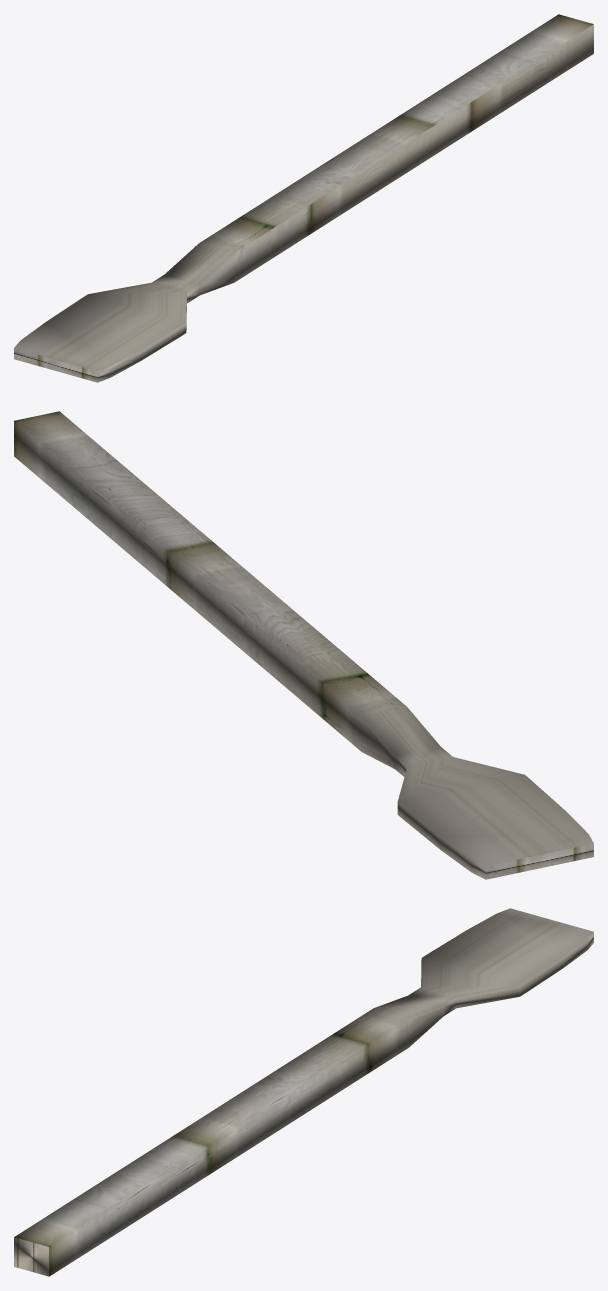
File: cube.080_lev3.glb
3 renders of one model, top to bottom at view 1: azimuth 90°, elevation 25°; view 2: azimuth 150°, elevation 25°; view 3: azimuth 270°, elevation 25°, orthographic. The views are drawn at different scales.
Visible parts, largest first — view 1: cube.080_lev3; view 2: cube.080_lev3; view 3: cube.080_lev3.
Boxes of the visible parts, x1,y1,x2,y2 form: cube.080_lev3: [14, 14, 593, 382]; cube.080_lev3: [14, 411, 593, 879]; cube.080_lev3: [14, 908, 593, 1276].
Size of the model in its own units: 0.6696 by 0.0266 by 0.4715.
1 material, 1 textured.
